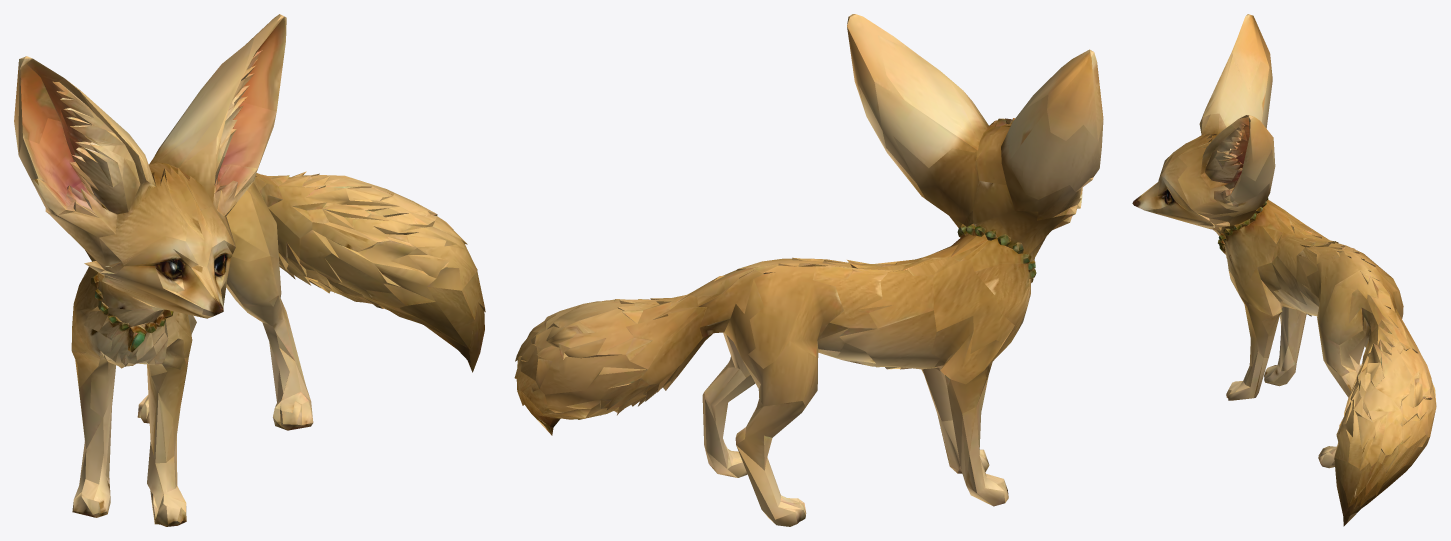
The model's file is fennec.glb.
3 renders of one model, left to right at view 1: azimuth 30°, elevation 25°; view 2: azimuth 150°, elevation 25°; view 3: azimuth 270°, elevation 25°, orthographic. The views are drawn at different scales.
Bounding box in the file's own units: 1.89 × 1.64 × 1.33.
1 material, 1 textured.
